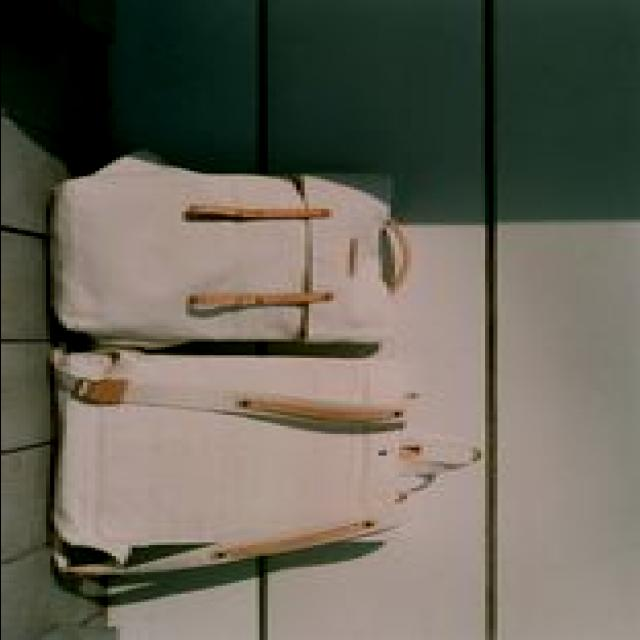backpack: (56, 346, 484, 588), (44, 160, 429, 346)
